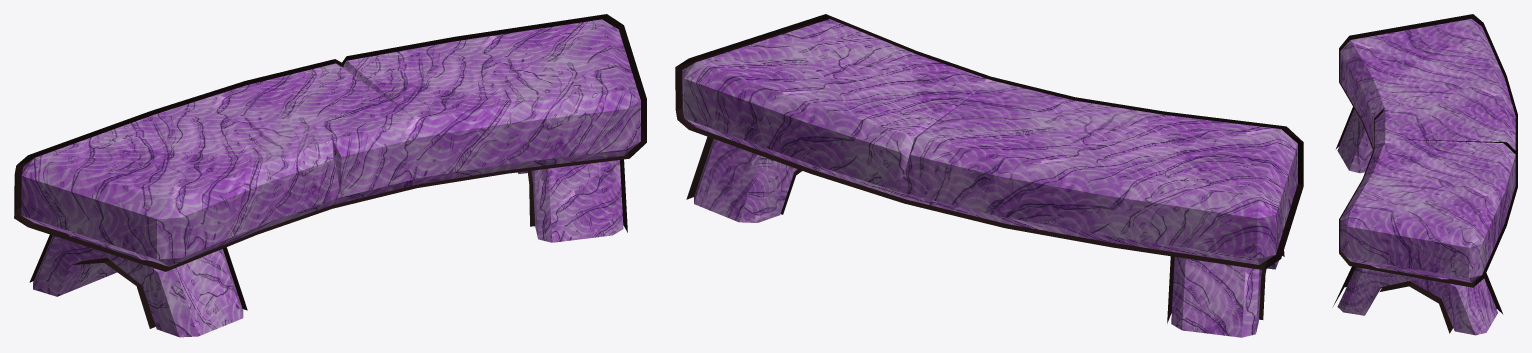
Rendered from mesh_bank_01.fbx.
The picture shows the model from 3 angles, left to right: view 1: azimuth 30°, elevation 25°; view 2: azimuth 150°, elevation 25°; view 3: azimuth 270°, elevation 25°; orthographic projection. The views are drawn at different scales.
Parts seen in each view (by area): view 1: mesh_bank_01; view 2: mesh_bank_01; view 3: mesh_bank_01.
Part boxes in pixels (x1=…): mesh_bank_01: x1=14, y1=14, x2=646, y2=337; mesh_bank_01: x1=675, y1=14, x2=1303, y2=337; mesh_bank_01: x1=1332, y1=14, x2=1517, y2=335.
Bounding box in the file's own units: 370 × 80.56 × 126.
Materials: 2 (1 with a texture image).
